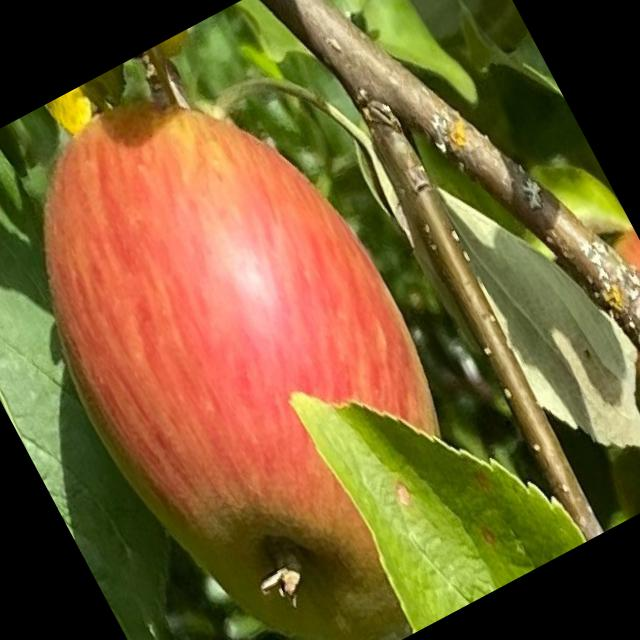Apples: (0, 33, 529, 639), (567, 231, 639, 461)
